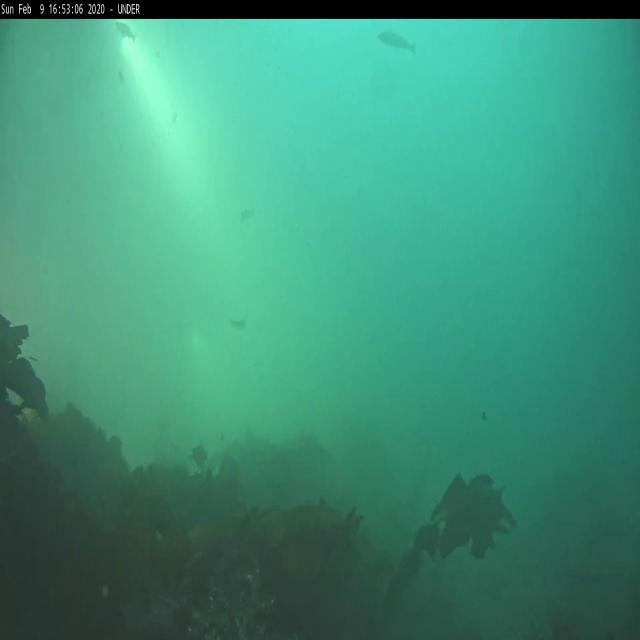fish: (380, 31, 418, 54), (115, 22, 138, 44)
